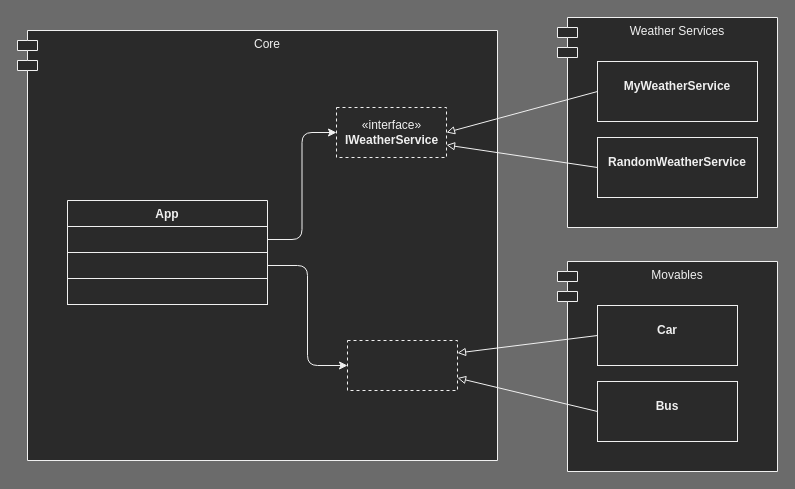
This 795x489 diagram has some shape labels left out. Each missing label, with the centre of its shape:
"+ _movable: IMovable" belongs at point (167, 265).
"+ _service: IWeatherService" belongs at point (167, 239).
"+ RunAsync(string cityCode): Task" belongs at point (167, 291).
"«interface» IMovable" belongs at point (402, 365).
